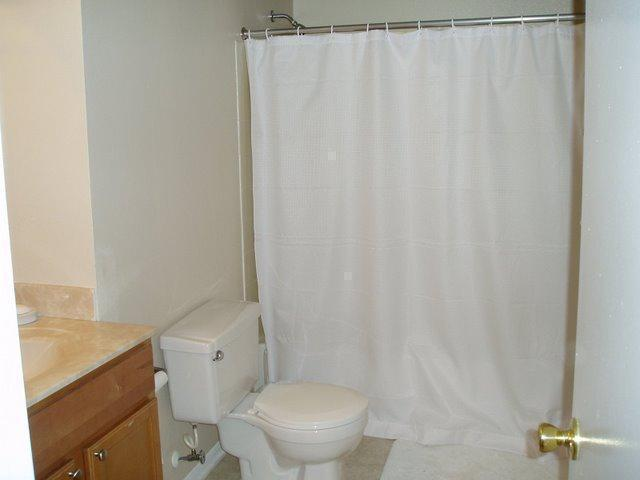Ducha: (237, 13, 564, 444)
Puerta: (577, 6, 638, 478)
Sanitario: (170, 305, 370, 477)
